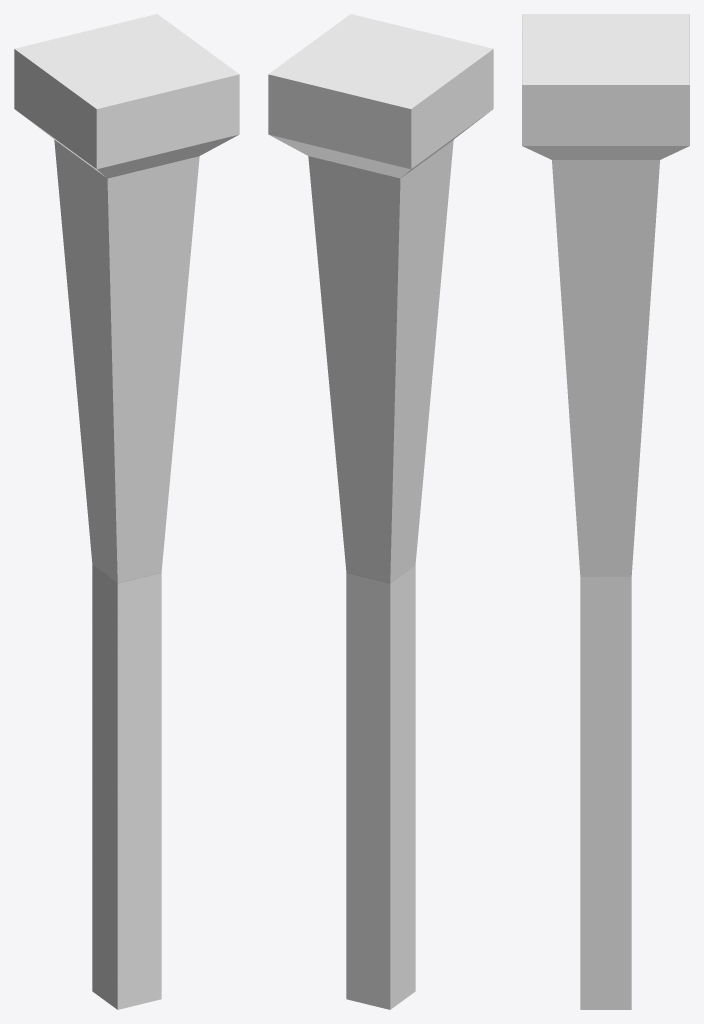
File: Torch.obj
The picture shows the model from 3 angles, left to right: view 1: azimuth 30°, elevation 25°; view 2: azimuth 150°, elevation 25°; view 3: azimuth 270°, elevation 25°; orthographic projection.
Visible parts, largest first — view 1: Cube_Cube.001; view 2: Cube_Cube.001; view 3: Cube_Cube.001.
Part boxes in pixels (<box>): Cube_Cube.001: <box>14,14,239,1009</box>; Cube_Cube.001: <box>268,14,493,1009</box>; Cube_Cube.001: <box>522,14,689,1009</box>.
Size of the model in its own units: 0.3987 by 2.49 by 0.3987.
